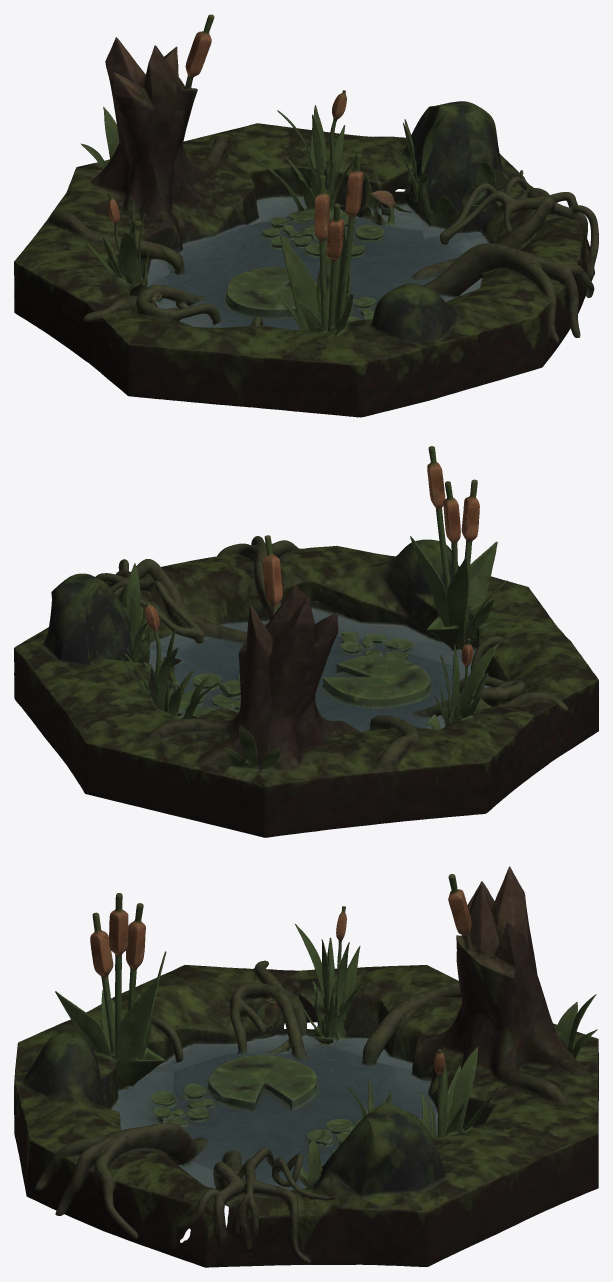
The model's file is Swamp.fbx.
The picture shows the model from 3 angles, top to bottom: view 1: azimuth 30°, elevation 25°; view 2: azimuth 150°, elevation 25°; view 3: azimuth 270°, elevation 25°; orthographic projection. The views are drawn at different scales.
Visible parts, largest first — view 1: Mesh_0; view 2: Mesh_0; view 3: Mesh_0.
Boxes of the visible parts, box(x1,y1,x2,y2) form: Mesh_0: box(14, 14, 598, 417); Mesh_0: box(14, 446, 598, 837); Mesh_0: box(14, 866, 598, 1267).
Size of the model in its own units: 1.9 by 0.8993 by 1.85.
1 material, 1 textured.
